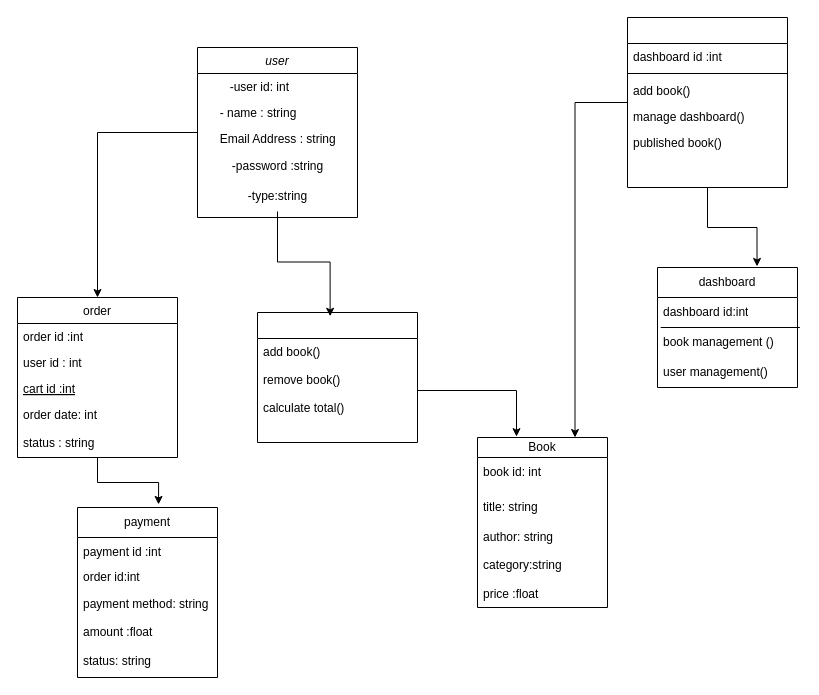
Image size: 819x695. Some labels were removed from this diagram. Each missing label, with the box of its shape:
Admin: (626, 16, 788, 188)
cart: (256, 312, 418, 442)
